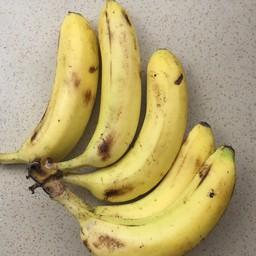Banana Ripe: (50, 144, 250, 256), (55, 0, 148, 185), (85, 44, 190, 191), (7, 8, 95, 179), (84, 123, 221, 226)
